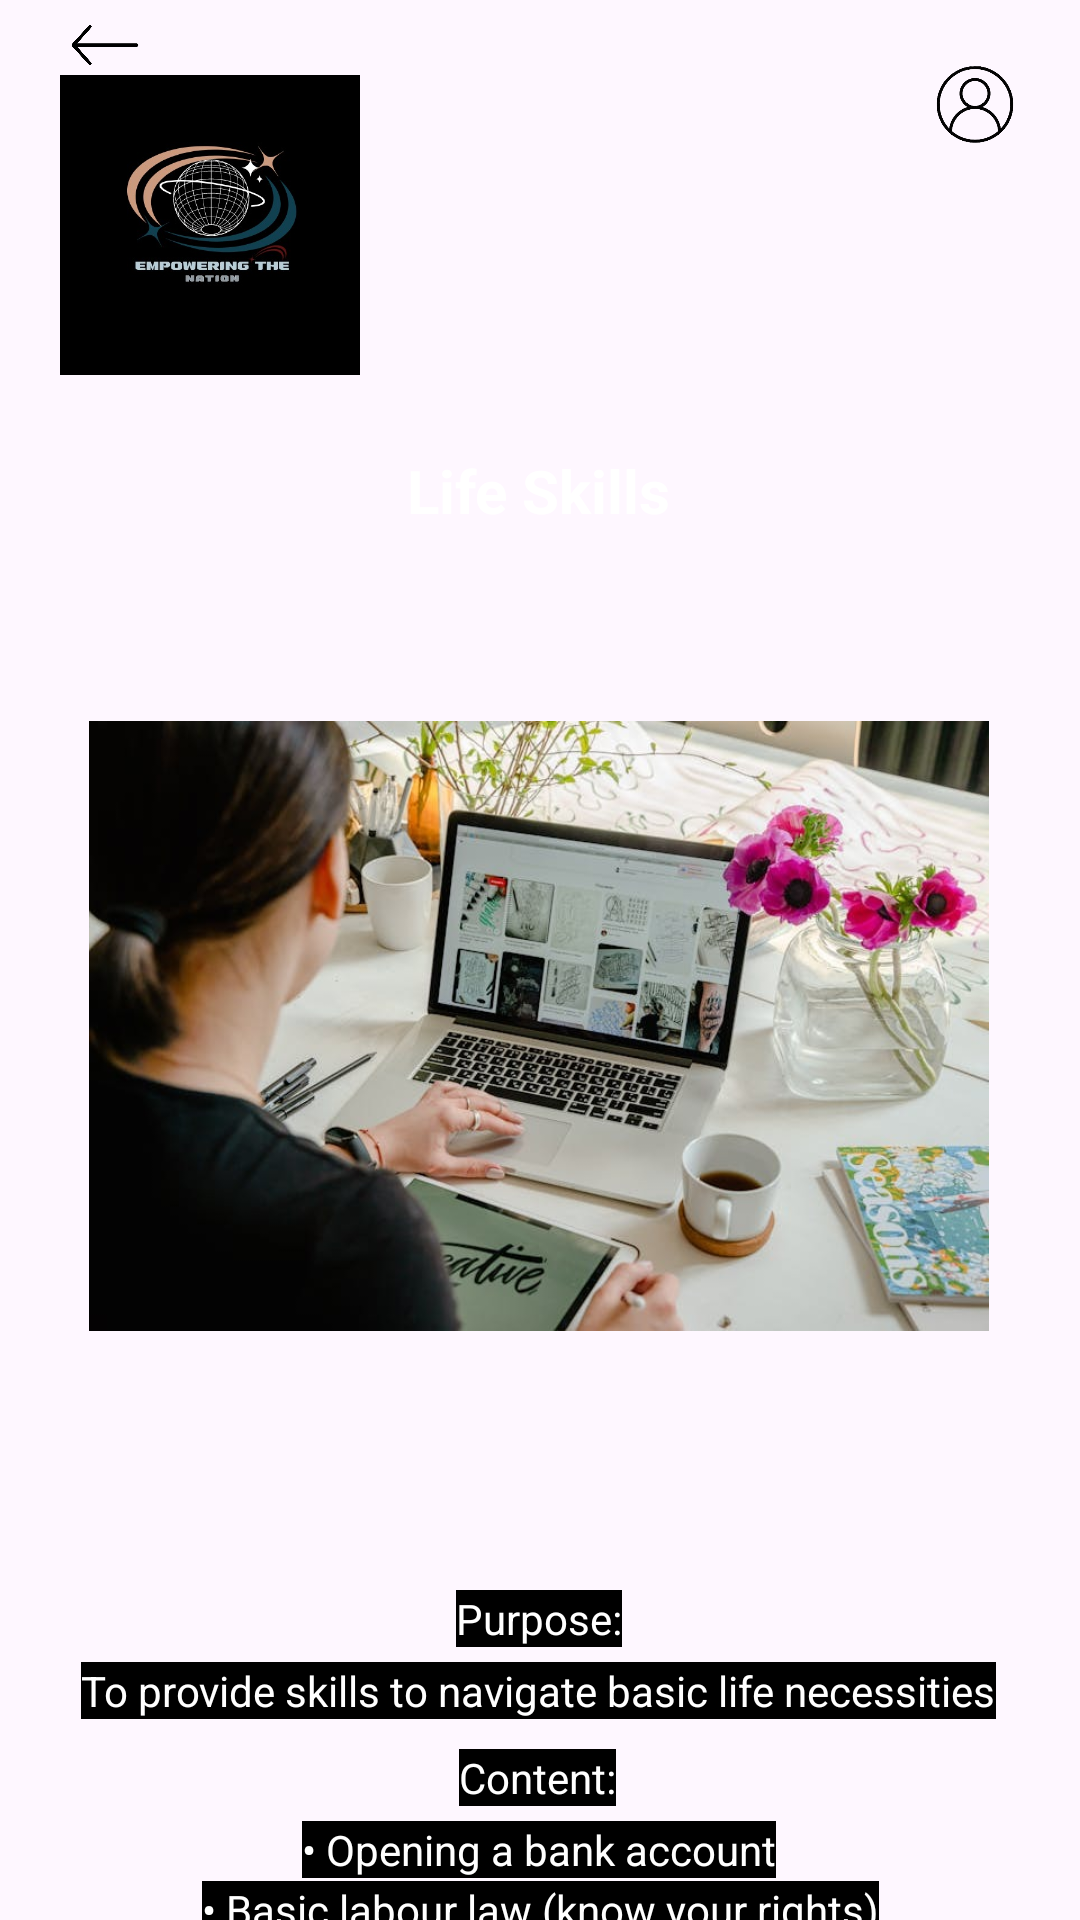

Icon bounding boxes for this 1080 x 1920 phone screenshot, format (x1, y1, x2, y2):
back: (72, 25, 138, 65)
